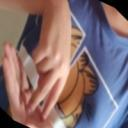hand: (27, 0, 73, 121), (2, 41, 55, 128)
